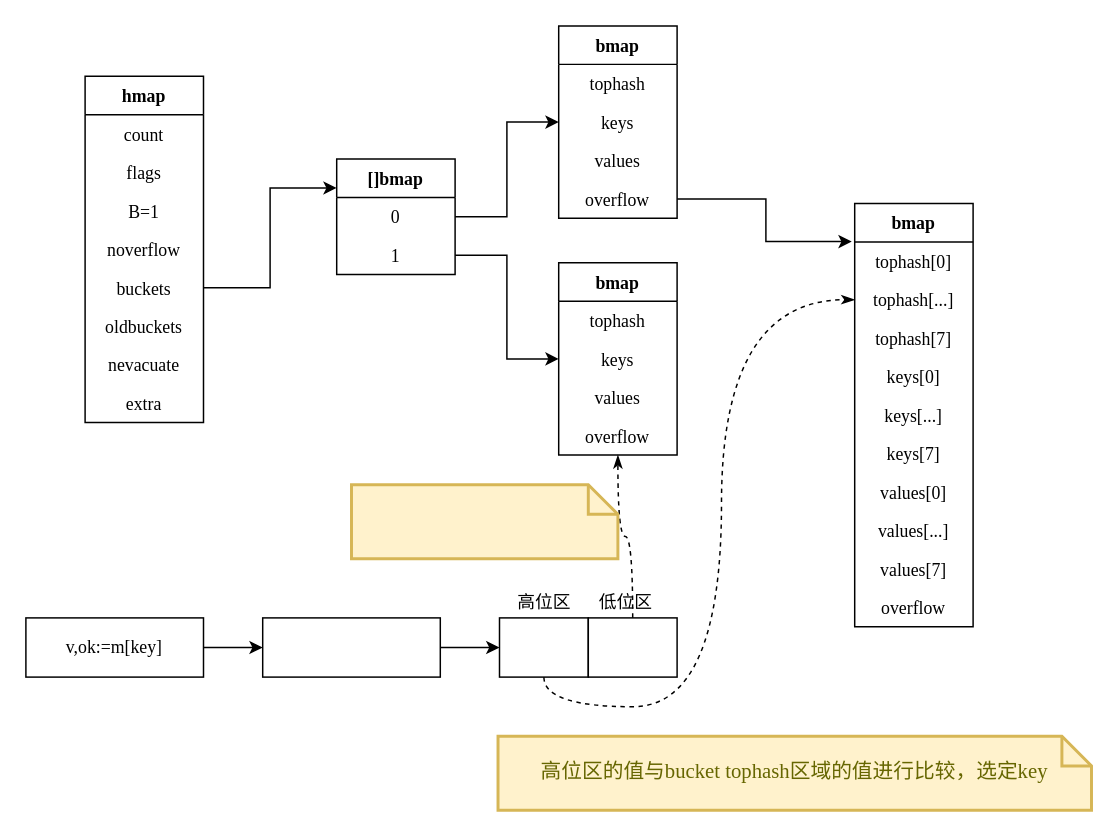
This 1119x838 diagram has some shape labels left out. The shapes that lost their labels are listed below. From the top down, each one's centre as x and y in pixels, then its label:
At [484,520]: "低位区的值用于选定bucket".
At [350,646]: "hashcode=Hash(key)".
At [543,646]: "xxxx".
At [632,646]: "yyyy".
